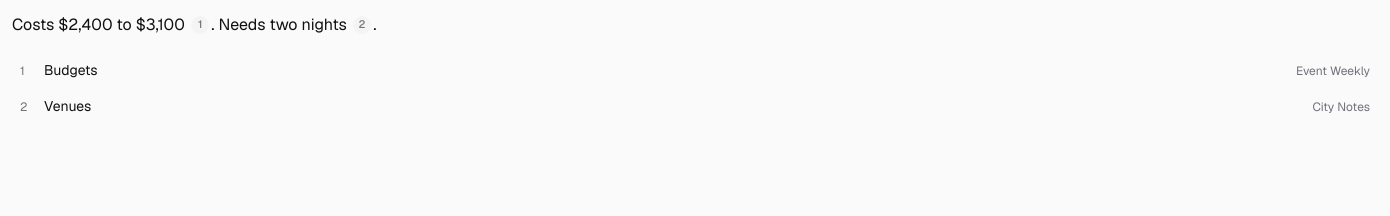
Citations › opens the exact quote for a marker and closes it with Escape
This screenshot has width=1390, height=216.
Click the button named "Source 1: Budgets" at (200, 25), box x1=191 y1=16 x2=209 y2=34
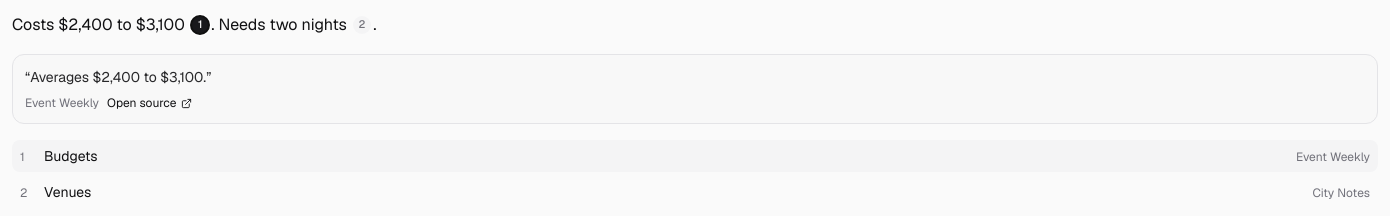
Result: the button named "Source 1: Budgets" is expanded at x1=191 y1=16 x2=209 y2=34
Result: the text "“Averages $2,400 to $3,100.”" is shown at x1=25 y1=68 x2=211 y2=86
Press Escape
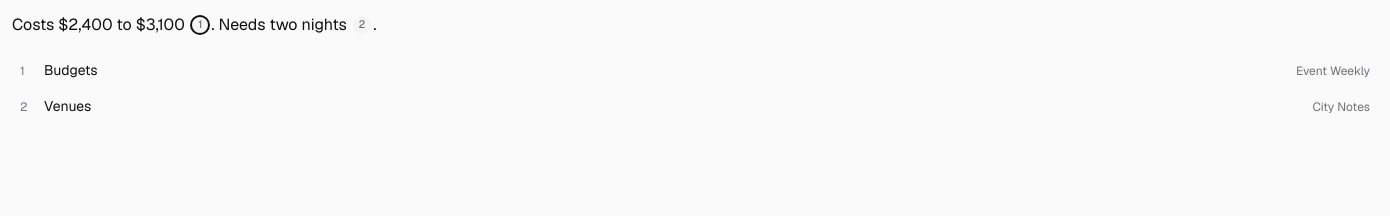
Result: the text "Averages $2,400" is gone
